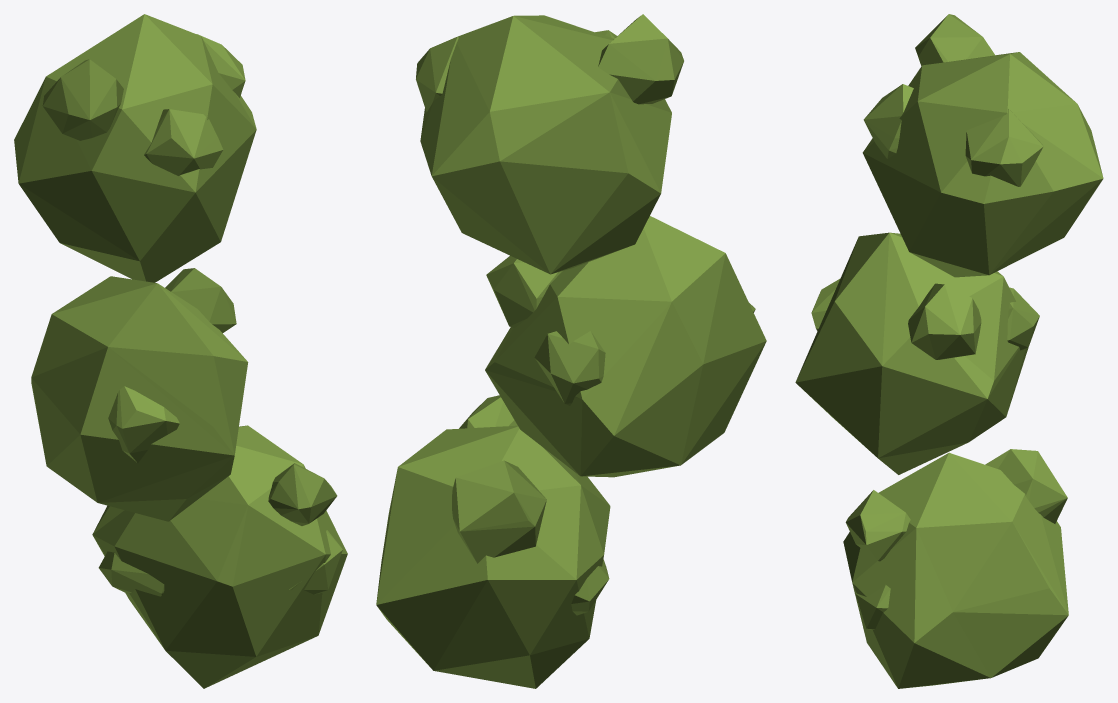
Rendered from Leaves_B.glb.
3 renders of one model, left to right at view 1: azimuth 30°, elevation 25°; view 2: azimuth 150°, elevation 25°; view 3: azimuth 270°, elevation 25°, orthographic. The views are drawn at different scales.
Parts seen in each view (by area): view 1: Leaves; view 2: Leaves; view 3: Leaves.
Boxes of the visible parts, x1,y1,x2,y2 form: Leaves: [14, 14, 347, 688]; Leaves: [376, 14, 766, 688]; Leaves: [795, 14, 1103, 688].
Size of the model in its own units: 8.52 by 17.57 by 7.88.
